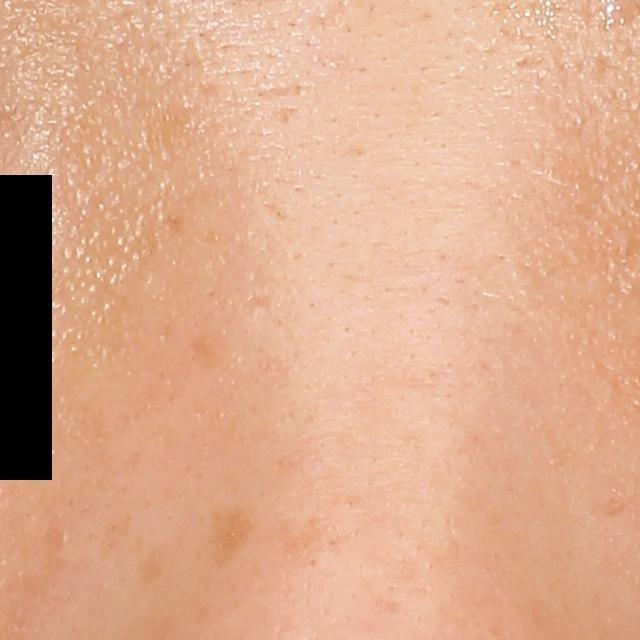melasma: (211, 502, 264, 569), (138, 537, 182, 587)
